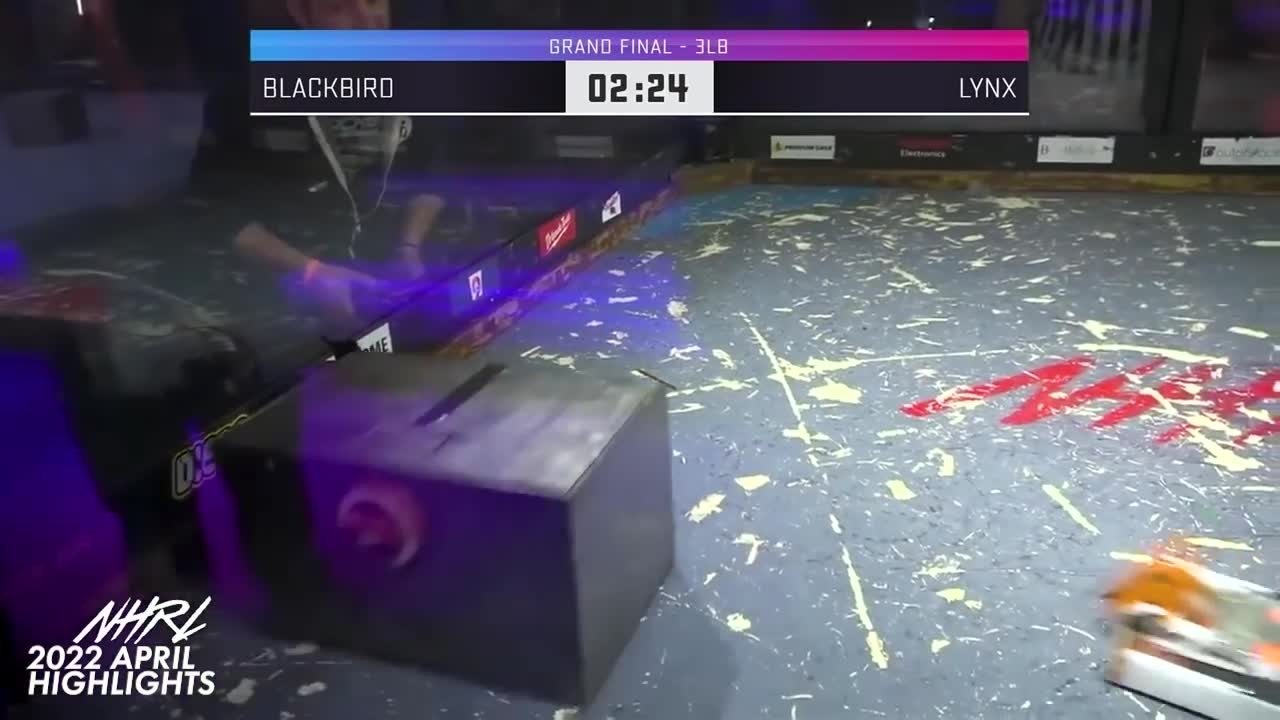combatbot: (1104, 550, 1280, 720)
housebot: (209, 349, 678, 706)
